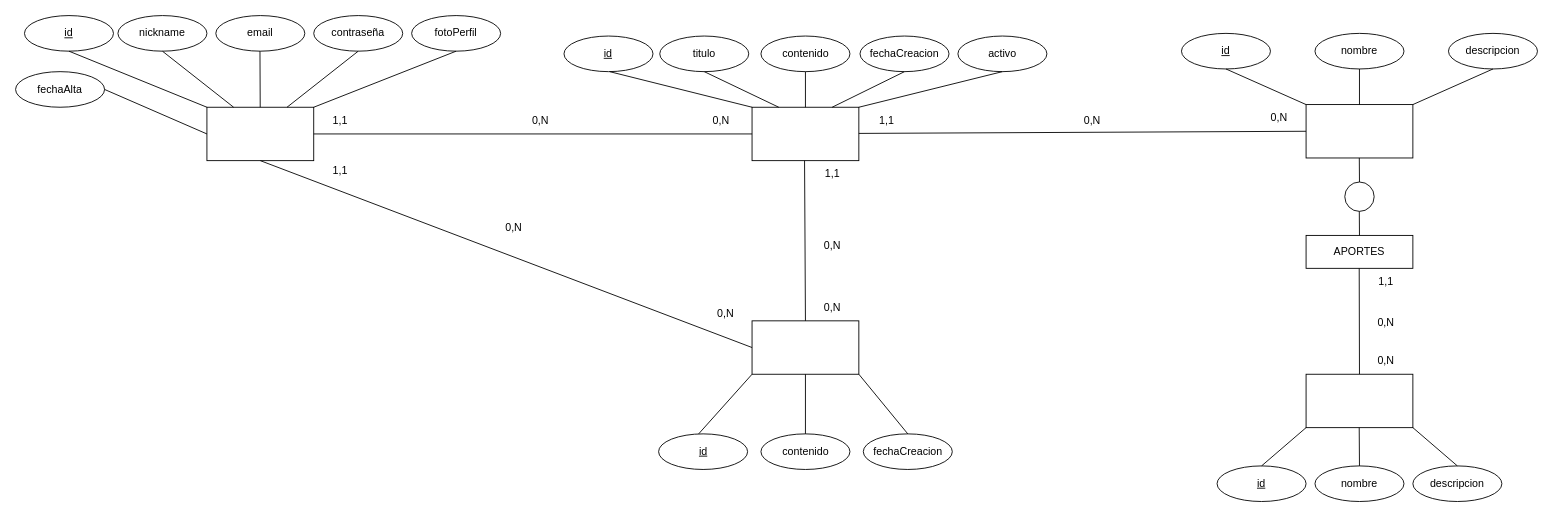
Image size: 1553x517. Some labels were removed from this diagram. The centre of each missing label's shape, as x and y in pixels:
"CATEGORIA" goes at point (1359, 131).
"COMENTARIO" goes at point (805, 347).
"ISA" goes at point (1359, 196).
"POST" goes at point (805, 133).
"SUBCATEGORIA" goes at point (1359, 400).
"USUARIO" goes at point (260, 133).
